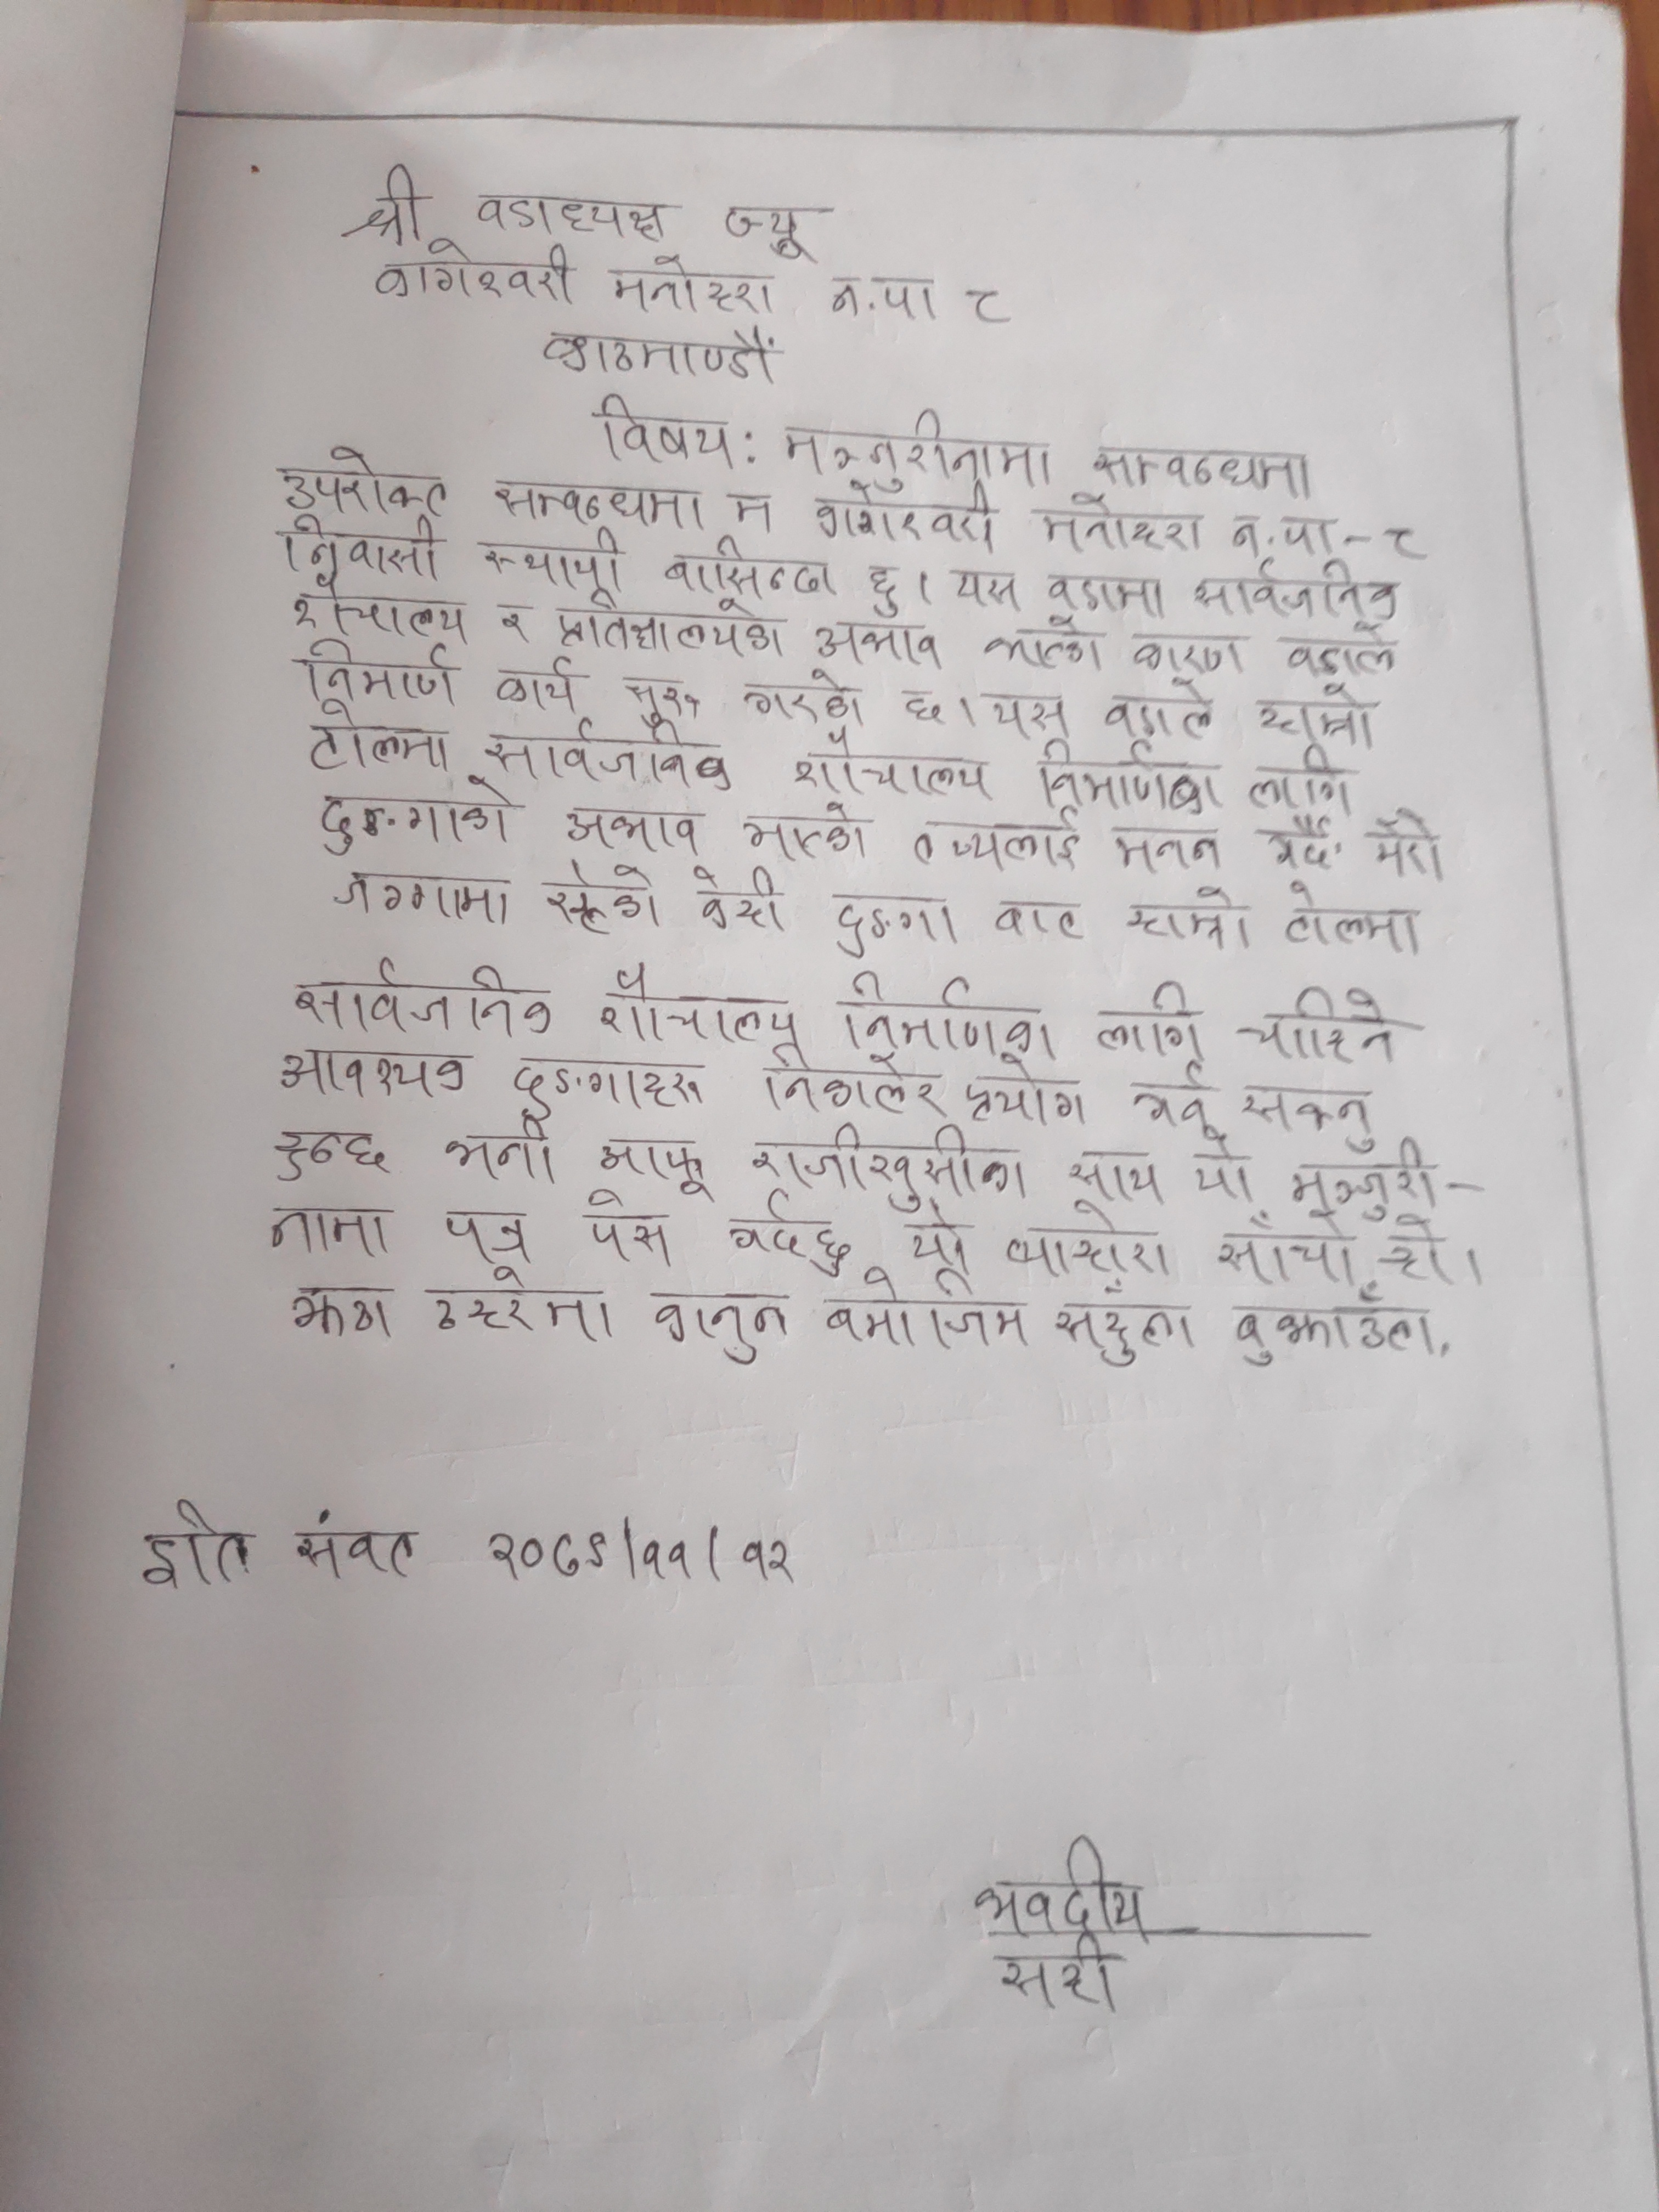text: (744, 1122, 1037, 1214), (289, 956, 558, 1042), (775, 408, 1060, 488), (476, 1519, 798, 1581), (831, 972, 1066, 1055), (962, 1834, 1159, 1933), (477, 723, 739, 796), (538, 310, 788, 383), (592, 961, 805, 1043), (549, 590, 788, 658), (816, 1284, 1039, 1353), (308, 784, 512, 859), (498, 1050, 711, 1122), (425, 1263, 613, 1343), (749, 1042, 951, 1115), (1028, 742, 1223, 817), (1234, 979, 1406, 1062), (1225, 1301, 1436, 1369), (636, 1278, 796, 1367), (322, 862, 511, 935), (1087, 435, 1319, 495), (270, 446, 457, 519), (1032, 488, 1218, 561), (999, 1204, 1175, 1278), (791, 733, 995, 798), (1187, 564, 1408, 624), (1042, 1280, 1199, 1362), (589, 392, 739, 474), (953, 1052, 1100, 1136), (369, 247, 580, 305), (910, 810, 1087, 878), (660, 533, 845, 597), (985, 1933, 1124, 2019), (303, 700, 455, 779), (490, 475, 709, 529), (132, 1498, 256, 1594), (807, 482, 1000, 543), (464, 188, 673, 244), (293, 580, 476, 643), (277, 516, 444, 583), (293, 643, 457, 711), (723, 1195, 859, 1275), (1215, 1212, 1359, 1287), (1276, 885, 1427, 956), (1293, 1148, 1455, 1214), (289, 1507, 425, 1585), (606, 254, 774, 317), (277, 1043, 471, 1097), (538, 852, 657, 935), (1239, 1085, 1382, 1153), (1126, 881, 1258, 953), (1089, 981, 1204, 1061), (479, 526, 626, 589), (260, 1200, 403, 1263), (282, 1275, 399, 1348), (979, 611, 1112, 676), (561, 799, 709, 857), (1251, 676, 1375, 744), (441, 1120, 563, 1186), (695, 859, 793, 941), (739, 662, 870, 723), (340, 160, 430, 247), (270, 1120, 390, 1184), (1098, 676, 1218, 738), (1042, 564, 1175, 620), (737, 810, 870, 866), (575, 1200, 678, 1270), (805, 613, 941, 665), (1127, 622, 1256, 676), (1105, 824, 1234, 878), (830, 900, 962, 953), (1249, 751, 1356, 813), (1359, 805, 1441, 885), (821, 272, 939, 326), (598, 1141, 711, 1197), (1225, 505, 1337, 561), (1276, 625, 1403, 674), (716, 200, 823, 258), (443, 1207, 547, 1264), (488, 651, 584, 712), (1072, 1137, 1164, 1200), (903, 1200, 976, 1278), (1265, 808, 1340, 881), (1375, 1214, 1450, 1287), (1121, 1061, 1204, 1125), (983, 683, 1072, 737), (992, 895, 1086, 946), (1188, 1146, 1262, 1204), (945, 564, 1021, 617), (627, 676, 701, 726), (864, 563, 915, 625), (953, 284, 1012, 329), (723, 488, 781, 533), (904, 685, 945, 730), (1385, 517, 1422, 563), (493, 601, 532, 637)
